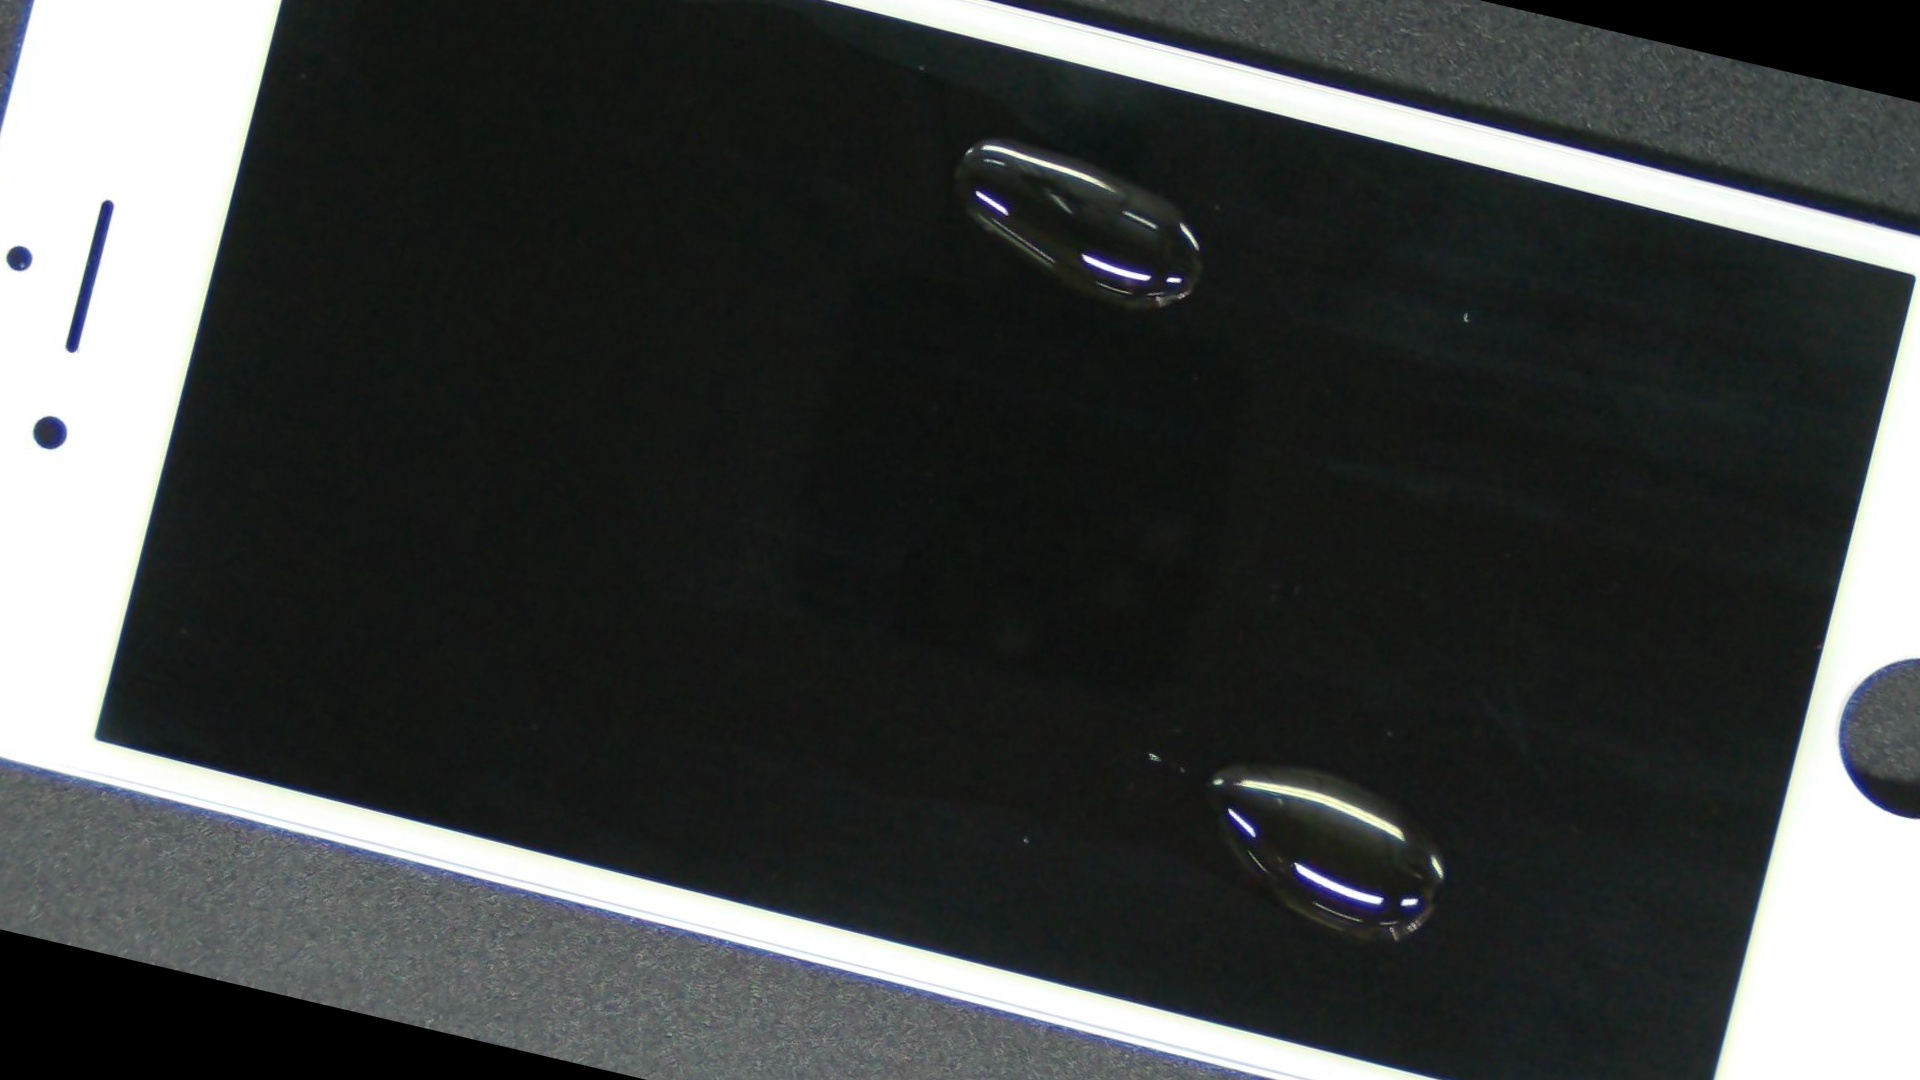oil: (491, 215, 1920, 1080), (451, 0, 1547, 375)
